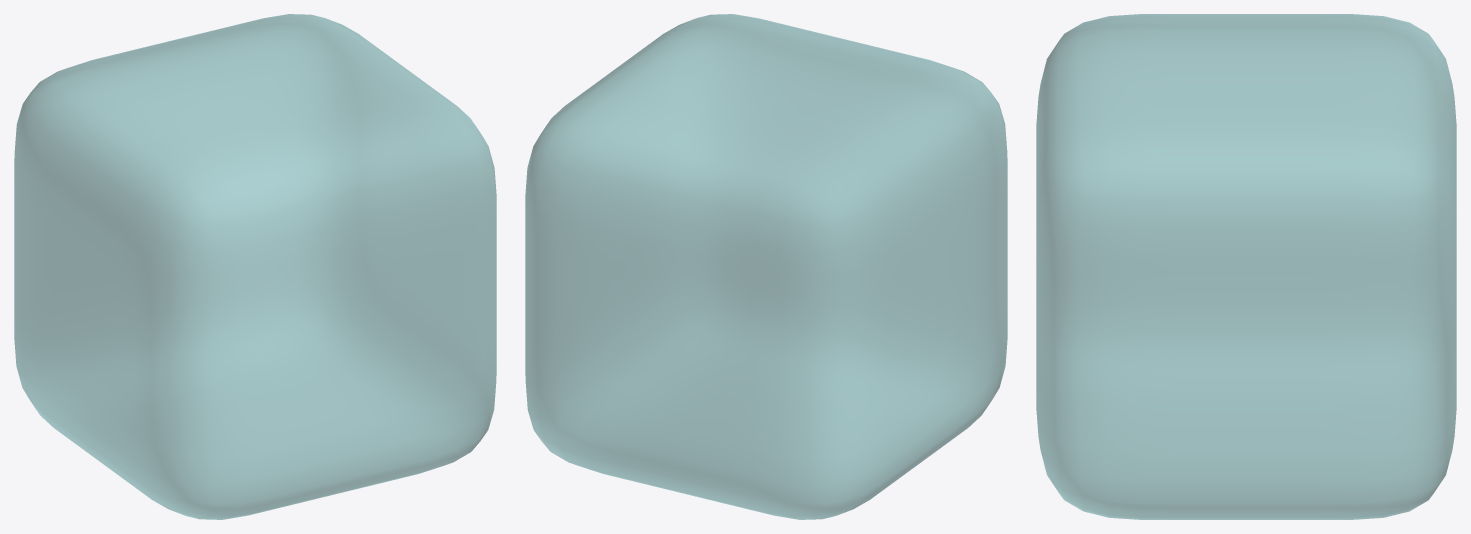
File: BlockIce.fbx
3 views of the same model, side by side, from view 1: azimuth 30°, elevation 25°; view 2: azimuth 150°, elevation 25°; view 3: azimuth 270°, elevation 25° (orthographic). The views are drawn at different scales.
Parts seen in each view (by area): view 1: polySurface1; view 2: polySurface1; view 3: polySurface1.
Part boxes in pixels (left/top/right/bottom): polySurface1: left=14, top=14, right=496, bottom=519; polySurface1: left=525, top=14, right=1007, bottom=519; polySurface1: left=1036, top=14, right=1456, bottom=519.
Size of the model in its own units: 3.49 by 3.49 by 3.49.
